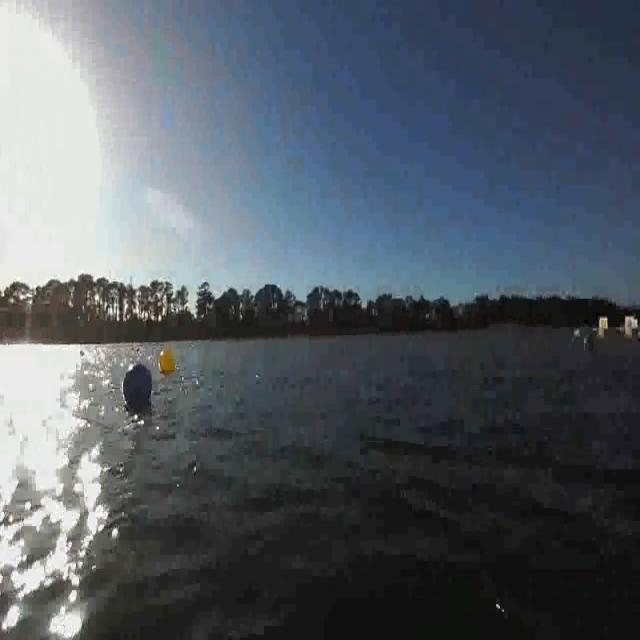blue-buoy: (124, 361, 152, 407)
yellow-buoy: (158, 348, 175, 373)
